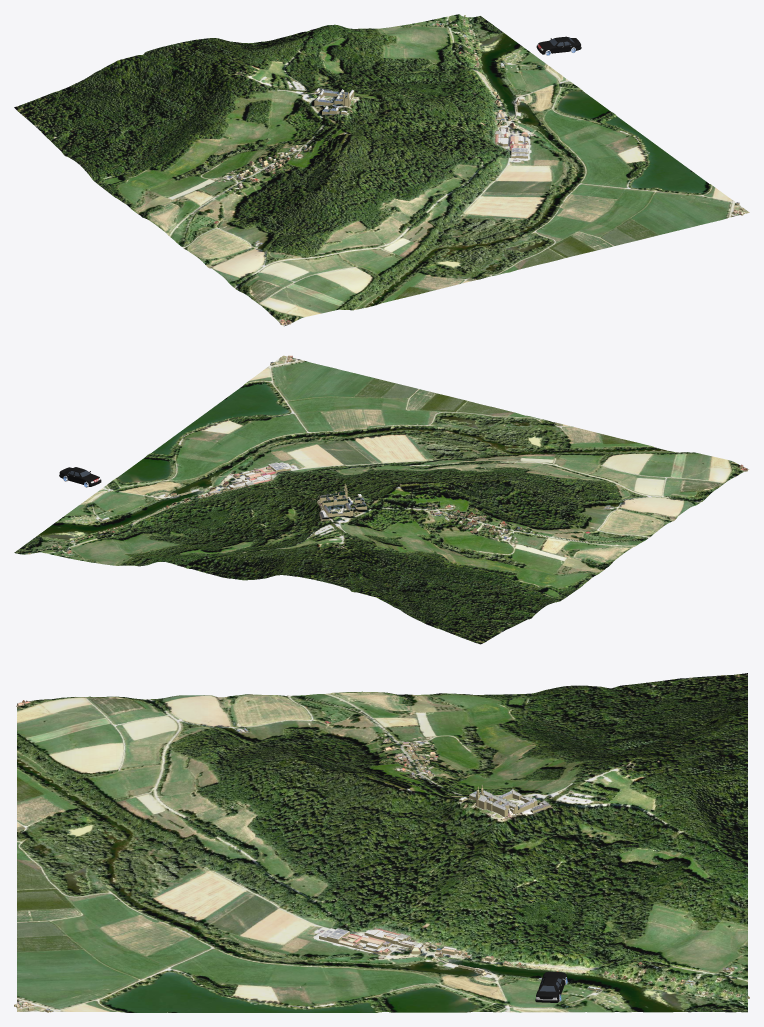
File: asset.glb
3 renders of one model, top to bottom at view 1: azimuth 30°, elevation 25°; view 2: azimuth 150°, elevation 25°; view 3: azimuth 270°, elevation 25°, orthographic. The views are drawn at different scales.
Visible parts, largest first — view 1: DGM_10m_KlosterBanz, Dach, Wand, Object112; view 2: DGM_10m_KlosterBanz, Dach, Wand, Object112; view 3: DGM_10m_KlosterBanz, Dach, Wand, Object112.
Part boxes in pixels (<box>): DGM_10m_KlosterBanz: <box>14,14,749,326</box>; Dach: <box>215,15,744,323</box>; Wand: <box>215,15,744,324</box>; Object112: <box>536,36,581,55</box>; DGM_10m_KlosterBanz: <box>14,355,749,644</box>; Dach: <box>28,355,747,554</box>; Wand: <box>28,356,747,554</box>; Object112: <box>59,467,101,487</box>; DGM_10m_KlosterBanz: <box>17,673,747,1012</box>; Dach: <box>14,698,749,1010</box>; Wand: <box>14,701,749,1012</box>; Object112: <box>535,971,567,1002</box>.
Bounding box in the file's own units: 2099 × 222 × 2003.
13 materials, 2 textured.
